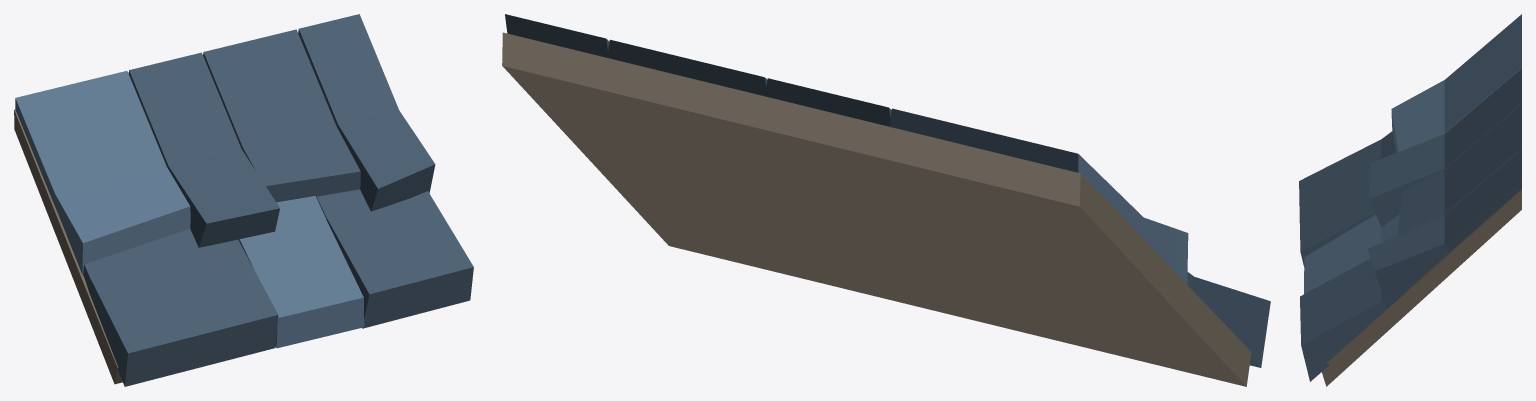
File: _ROOF_base_small_1.fbx
The picture shows the model from 3 angles, left to right: view 1: azimuth 30°, elevation 25°; view 2: azimuth 150°, elevation 25°; view 3: azimuth 270°, elevation 25°; orthographic projection. The views are drawn at different scales.
Parts seen in each view (by area): view 1: ROOF_base_small_1; view 2: ROOF_base_small_1; view 3: ROOF_base_small_1.
Part boxes in pixels (x1,y1,x2,y2): ROOF_base_small_1: (14, 14, 473, 386); ROOF_base_small_1: (502, 14, 1270, 386); ROOF_base_small_1: (1299, 14, 1521, 386).
Bounding box in the file's own units: 100 × 58.7 × 57.
